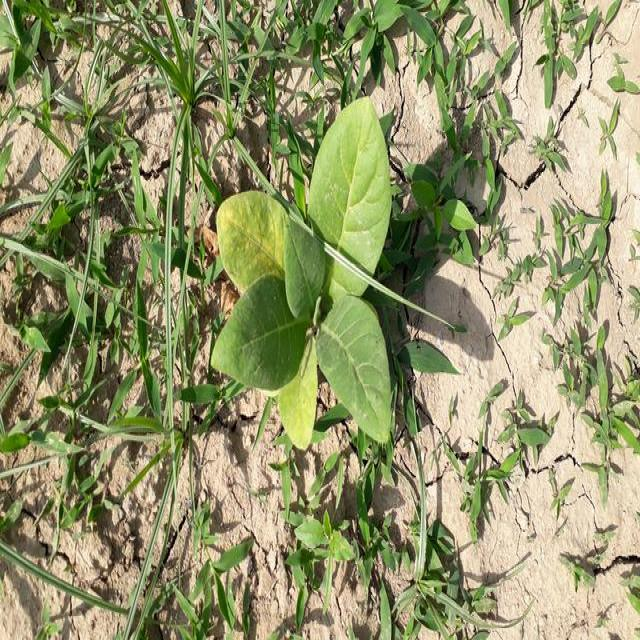crop: (204, 103, 408, 455)
